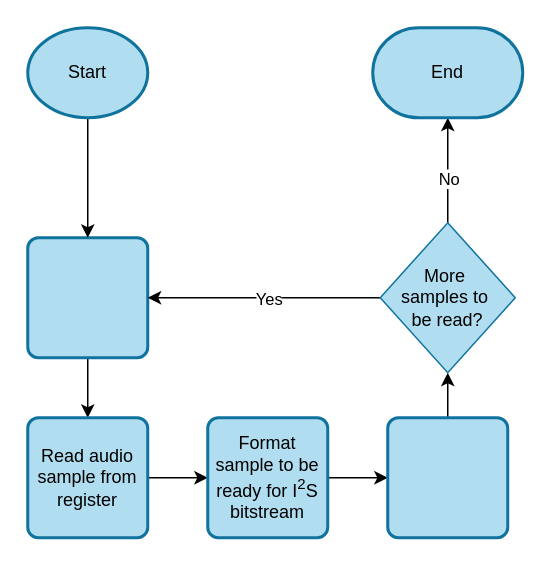
This 549x564 diagram has some shape labels left out. The shapes that lost their labels are listed below. From the top down, each one's box as (x1, y1, x2, y2) in pixels, then its label:
(26, 236, 148, 358): Wait/check for HPS write to audio register
(386, 416, 508, 538): Send audio sample to WM8731 Audio Codec
